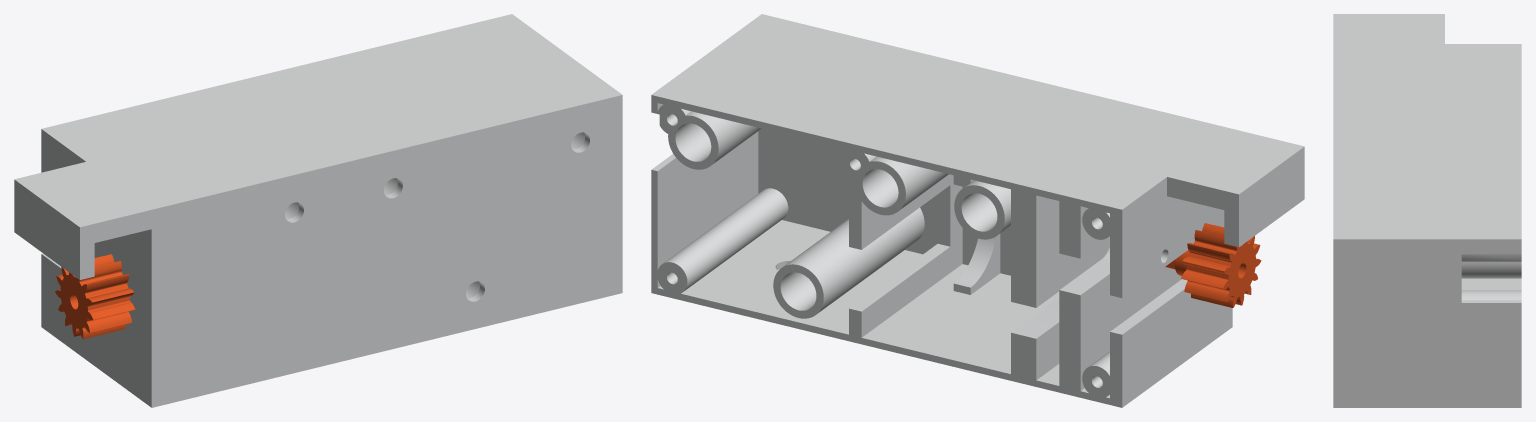
Rendered from v1_open.glb.
3 renders of one model, left to right at view 1: azimuth 30°, elevation 25°; view 2: azimuth 150°, elevation 25°; view 3: azimuth 270°, elevation 25°, orthographic. The views are drawn at different scales.
Visible parts, largest first — view 1: tub, pinion; view 2: tub, pinion; view 3: tub.
Boxes of the visible parts, bbox=[...] form: tub: bbox=[14, 14, 622, 407]; pinion: bbox=[55, 254, 135, 339]; tub: bbox=[651, 14, 1304, 407]; pinion: bbox=[1165, 223, 1261, 307]; tub: bbox=[1333, 14, 1521, 407].
Size of the model in its own units: 0.129 by 0.045 by 0.0455.
